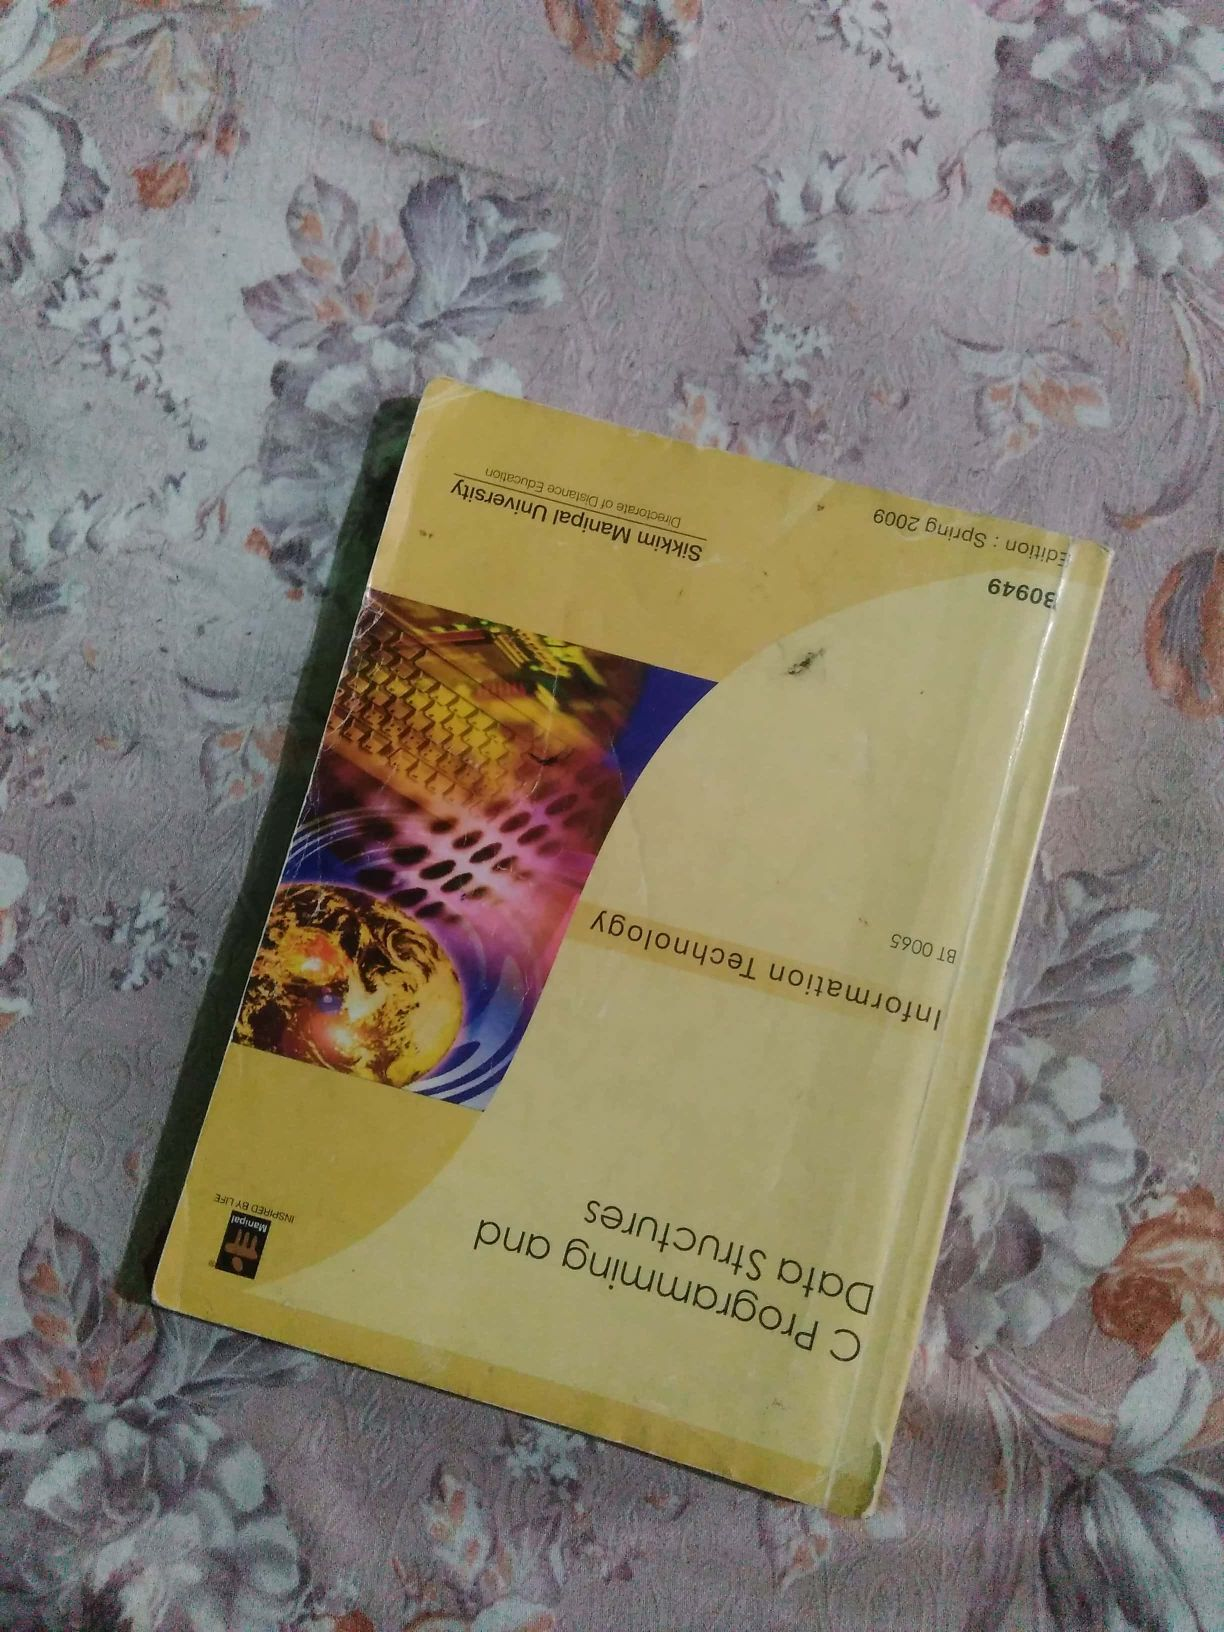clang: (174, 359, 1085, 1471)
